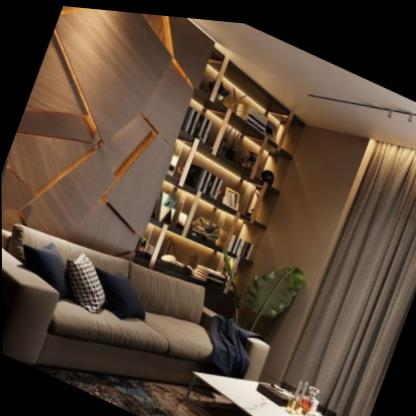Curtains: (279, 135, 416, 416)
Wall Panel: (0, 0, 229, 278)
